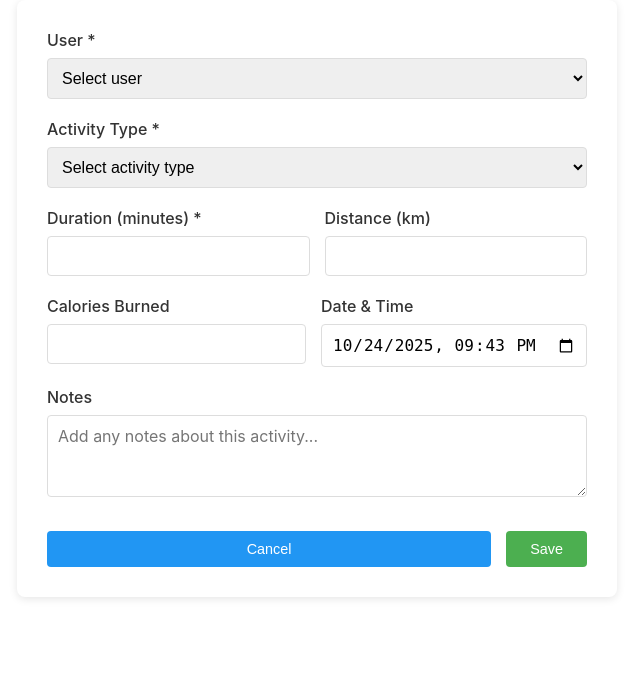
Scenario: ActivityForm Component › should show validation error for empty userId
The width and height of the screenshot is (635, 680).
Click the button "Save" at (547, 549), box x1=506 y1=531 x2=587 y2=567
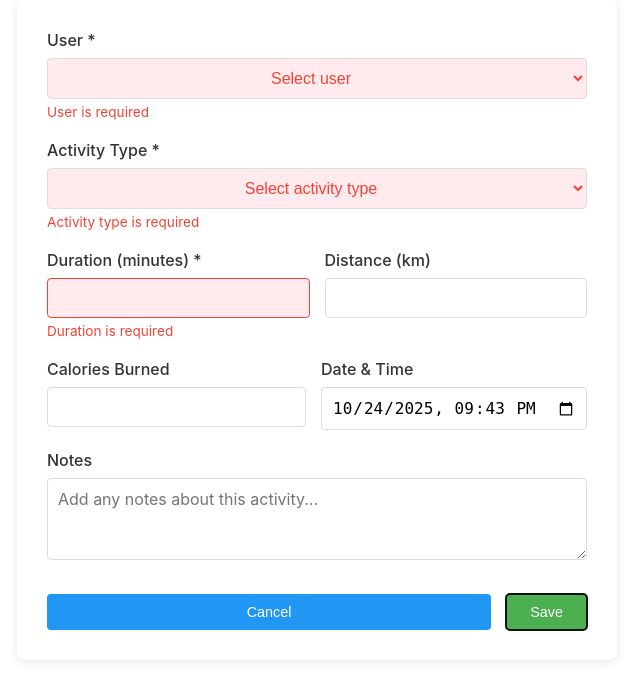
Check: the text "User is required" is shown, box x1=47 y1=104 x2=149 y2=120
